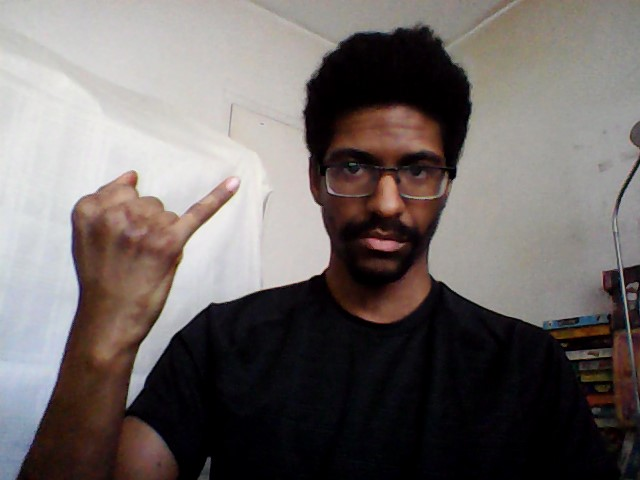j: (62, 166, 244, 353)
